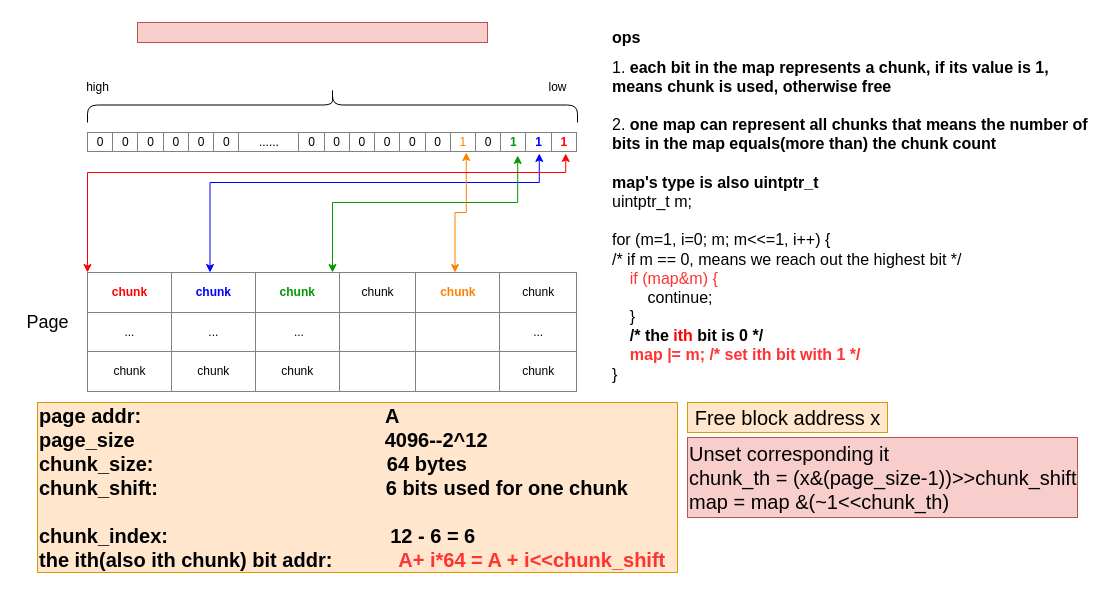
The diagram is 1114 pixels wide and 590 high, and some of its shapes have lost their labels. Here are the shapes that lost their labels. From the top down, the centre of each, then its label:
At (312,32): "bitmap(control part) is not in the page".
At (332,104): "map".
